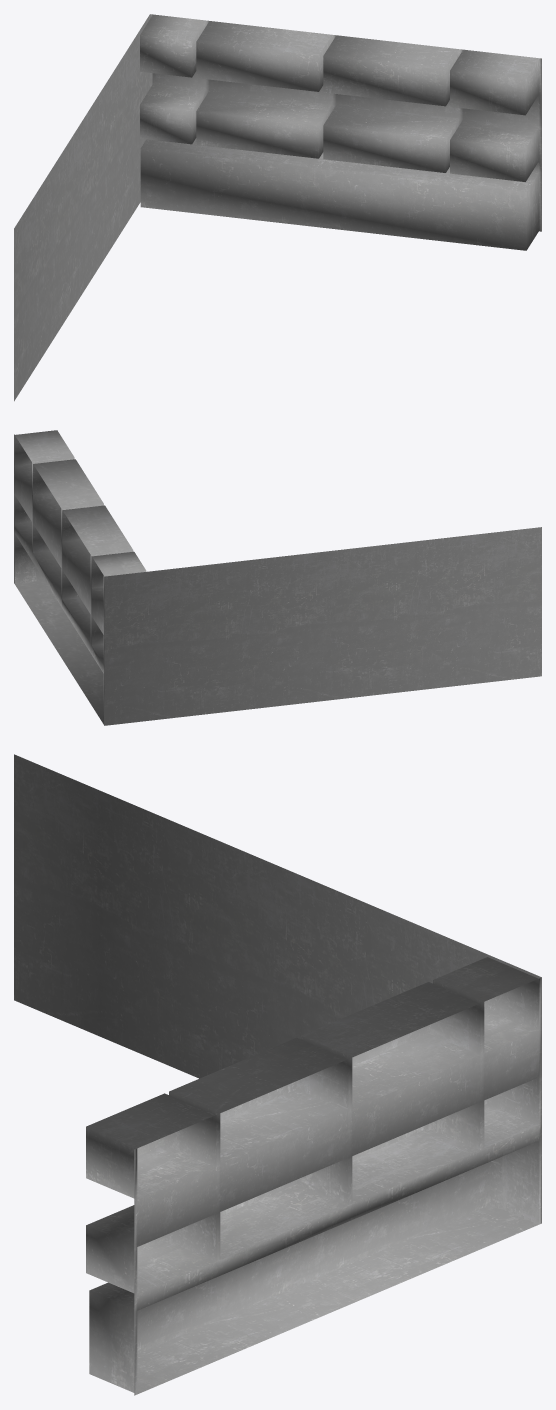
File: tribune_vertical_short02.fbx
3 renders of one model, top to bottom at view 1: azimuth 30°, elevation 25°; view 2: azimuth 150°, elevation 25°; view 3: azimuth 270°, elevation 25°, orthographic. The views are drawn at different scales.
Visible parts, largest first — view 1: Cube_019; view 2: Cube_019; view 3: Cube_019.
Part boxes in pixels (bbox=[...]): Cube_019: bbox=[14, 14, 541, 401]; Cube_019: bbox=[14, 430, 541, 725]; Cube_019: bbox=[14, 754, 541, 1395].
Bounding box in the file's own units: 41.35 × 12 × 23.33.
